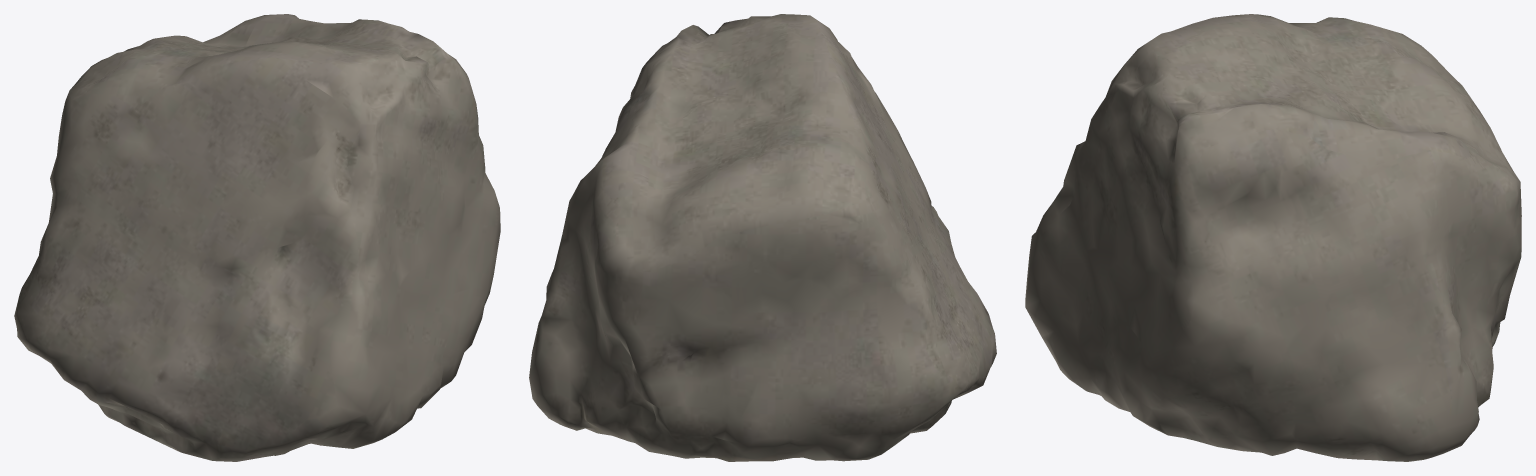
3 renders of one model, left to right at view 1: azimuth 30°, elevation 25°; view 2: azimuth 150°, elevation 25°; view 3: azimuth 270°, elevation 25°, orthographic. The views are drawn at different scales.
Visible parts, largest first — view 1: moon_rock_02_LOD0; view 2: moon_rock_02_LOD0; view 3: moon_rock_02_LOD0.
Boxes of the visible parts, x1,y1,x2,y2 form: moon_rock_02_LOD0: (14,14,500,461); moon_rock_02_LOD0: (529,14,996,461); moon_rock_02_LOD0: (1025,14,1521,461).
Size of the model in its own units: 0.2465 by 0.2019 by 0.2513.
1 material, 1 textured.
